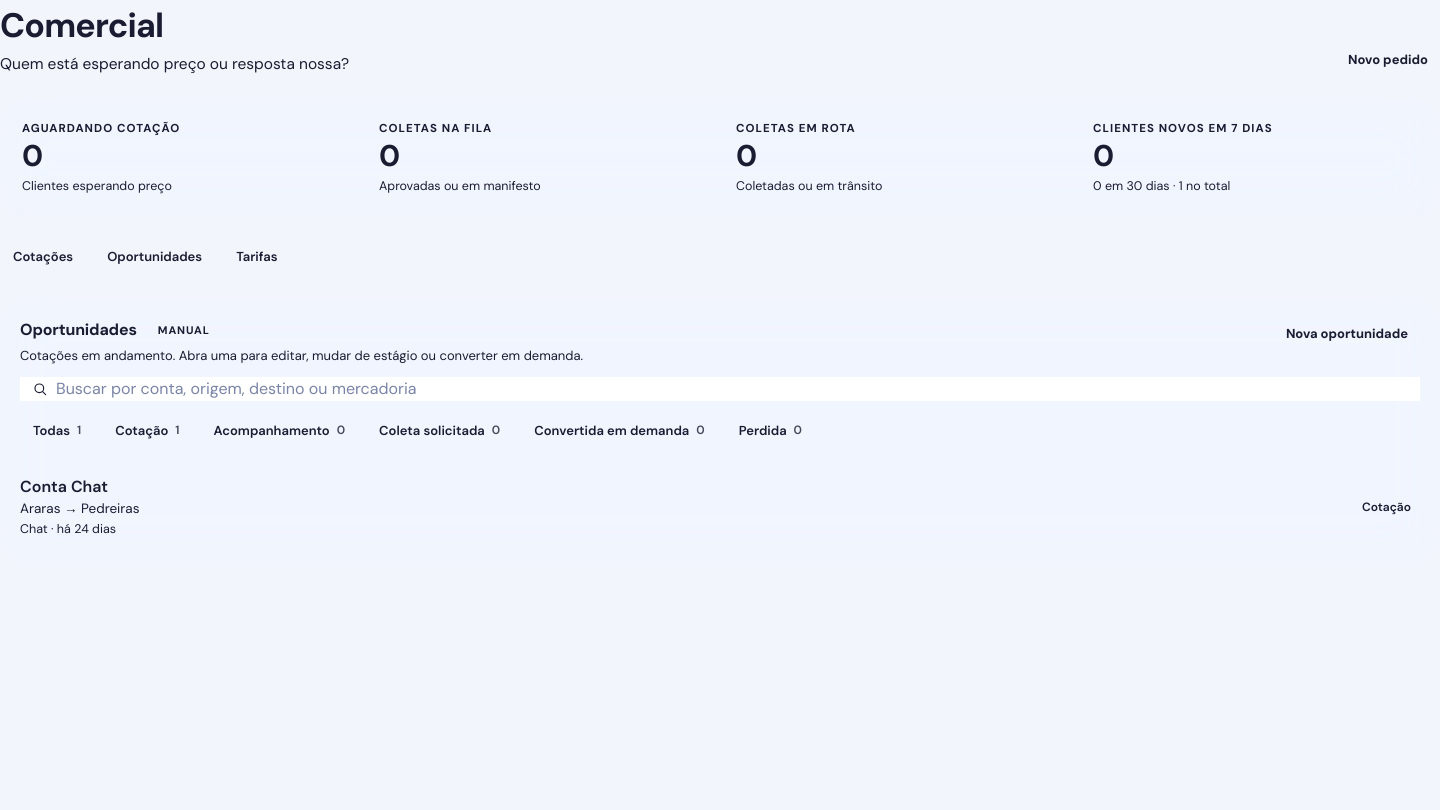
Test: Comercial: demanda, colunas do funil e chat › mostra a conversa do chat na oportunidade
Click the button with aria-label "Abrir oportunidade de Conta Chat" at (64, 487), box [0,460,1439,554]
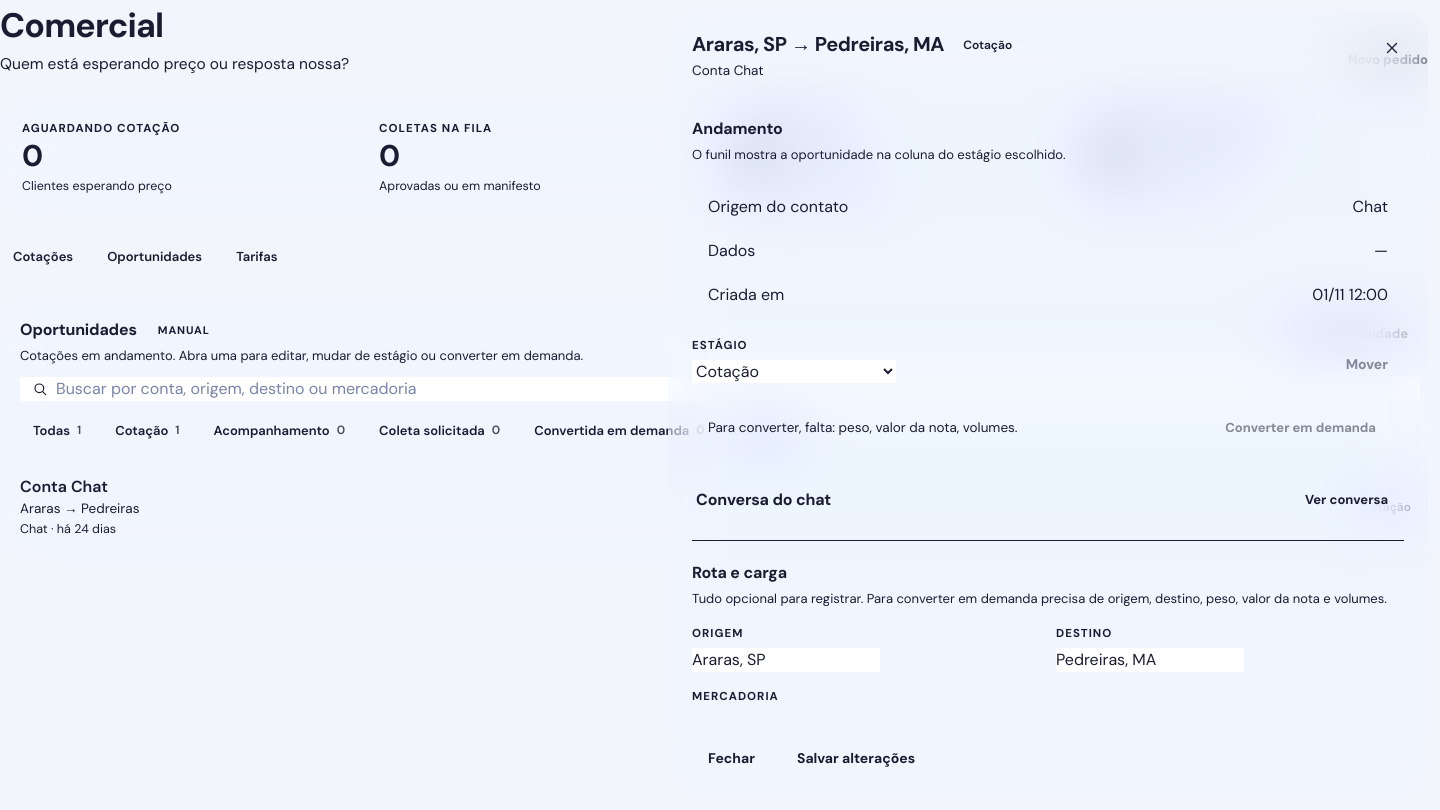
Click the button "Ver conversa" at (1346, 500), box [1293,484,1400,516]
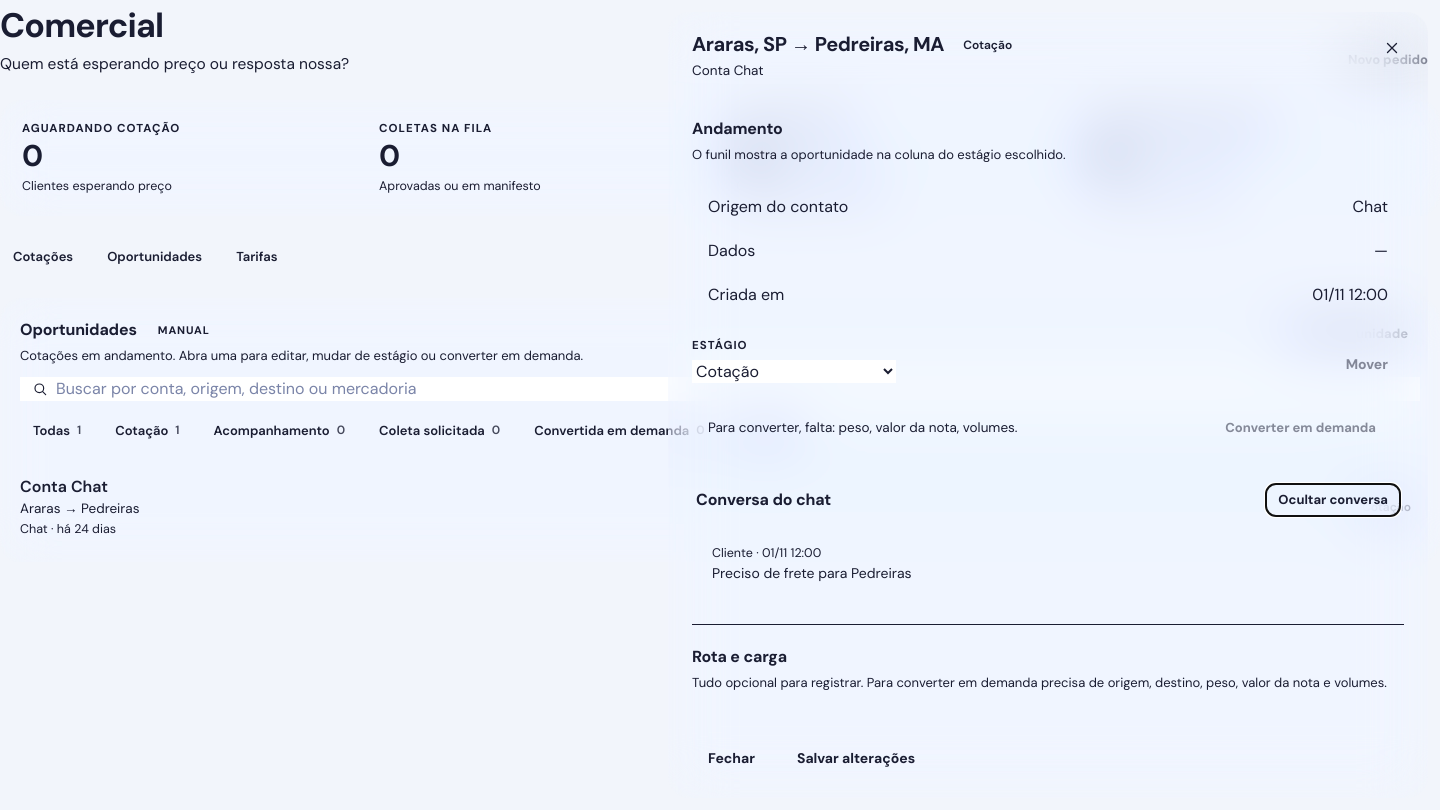
Check: the text "Preciso de frete para Pedreiras" is shown, box [712,564,912,582]
